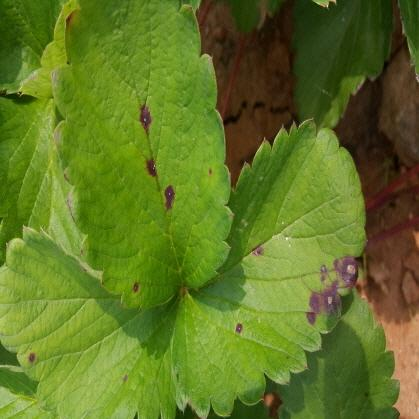Leaf Spot: (170, 117, 369, 418), (50, 0, 236, 311), (0, 222, 181, 418)
